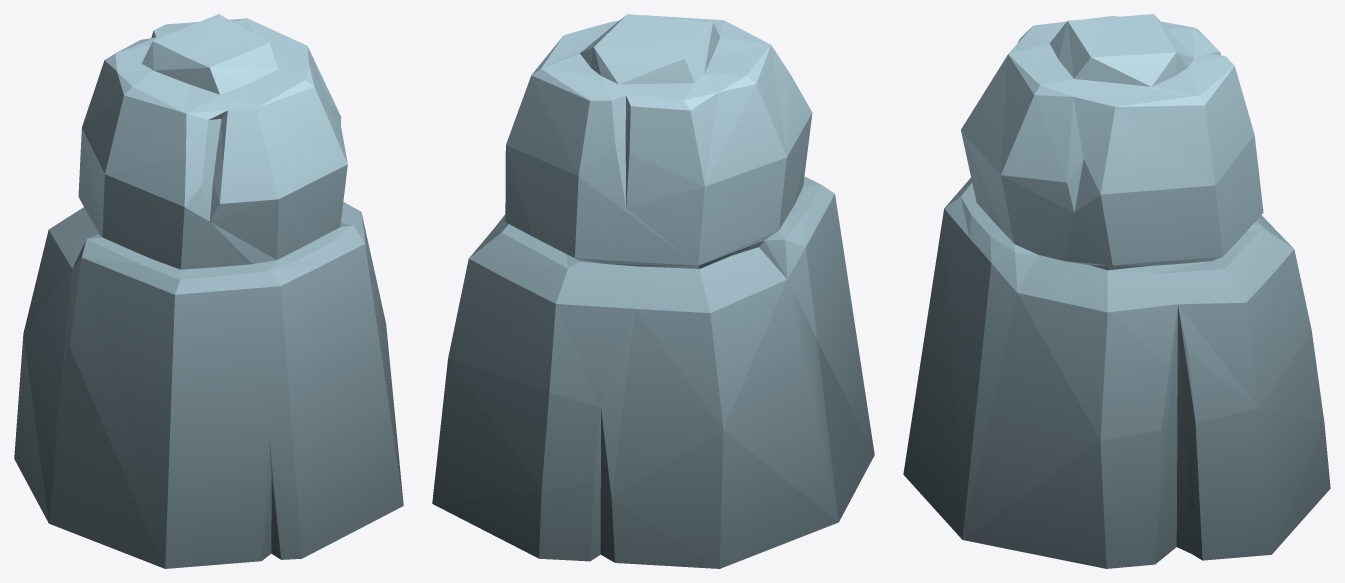
File: stone large gray blue 2.fbx
3 renders of one model, left to right at view 1: azimuth 30°, elevation 25°; view 2: azimuth 150°, elevation 25°; view 3: azimuth 270°, elevation 25°, orthographic. The views are drawn at different scales.
Visible parts, largest first — view 1: stone large gray blue 2; view 2: stone large gray blue 2; view 3: stone large gray blue 2.
Boxes of the visible parts, x1=… form: stone large gray blue 2: x1=14, y1=14, x2=403, y2=568; stone large gray blue 2: x1=432, y1=14, x2=874, y2=568; stone large gray blue 2: x1=903, y1=14, x2=1330, y2=568.
Size of the model in its own units: 361 by 439 by 380.
